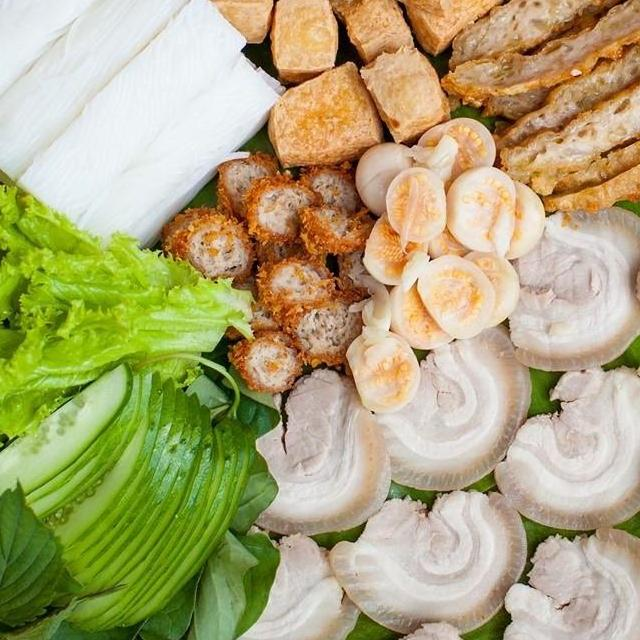bun: (0, 0, 291, 269)
bun dau: (0, 0, 640, 640)
cha com: (440, 0, 640, 236)
dau hu: (105, 0, 632, 182)
thit heo: (310, 484, 554, 640), (369, 304, 544, 503), (476, 348, 640, 538), (233, 360, 397, 550), (187, 528, 377, 640), (485, 504, 640, 640)
